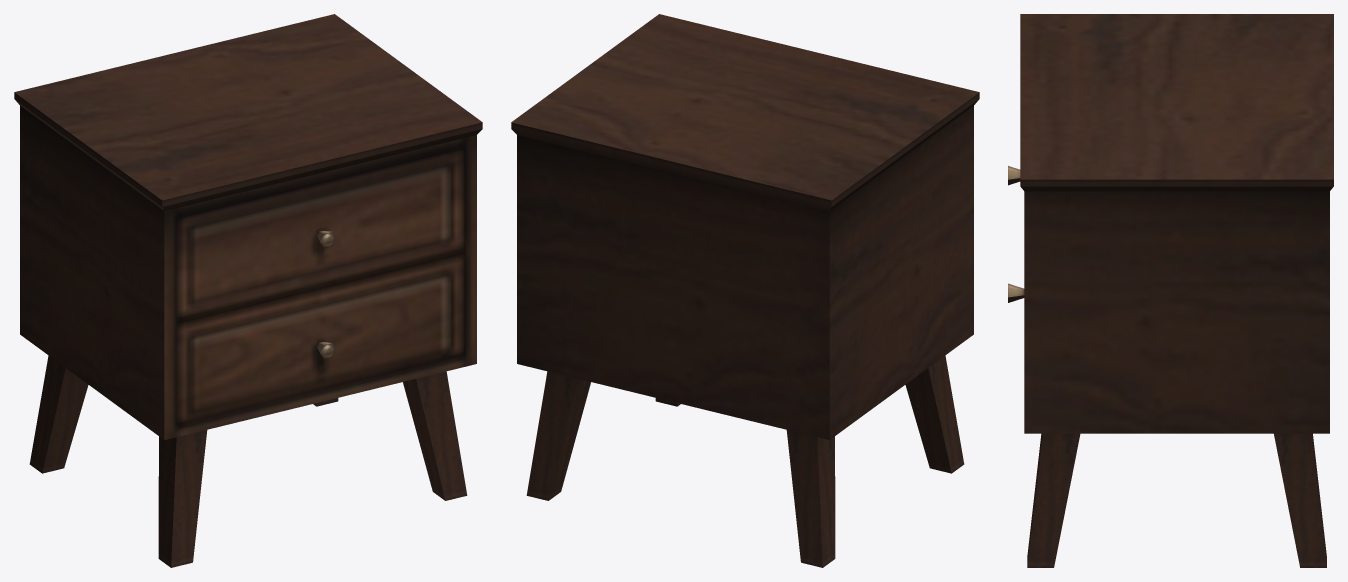
The model's file is Nightstand.fbx.
The picture shows the model from 3 angles, left to right: view 1: azimuth 30°, elevation 25°; view 2: azimuth 150°, elevation 25°; view 3: azimuth 270°, elevation 25°; orthographic projection. The views are drawn at different scales.
Parts seen in each view (by area): view 1: Nightstand; view 2: Nightstand; view 3: Nightstand.
Part boxes in pixels (x1,y1,x2,y2): Nightstand: (14, 14, 482, 567); Nightstand: (511, 14, 979, 567); Nightstand: (1008, 14, 1333, 567).
Bounding box in the file's own units: 51.29 × 57 × 42.64.
Materials: 1 (1 with a texture image).
